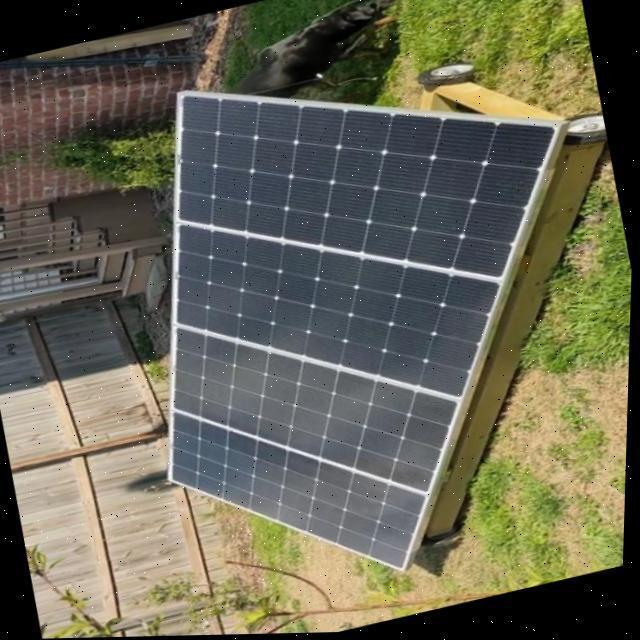Normal Solar Panel: (93, 10, 640, 620)
